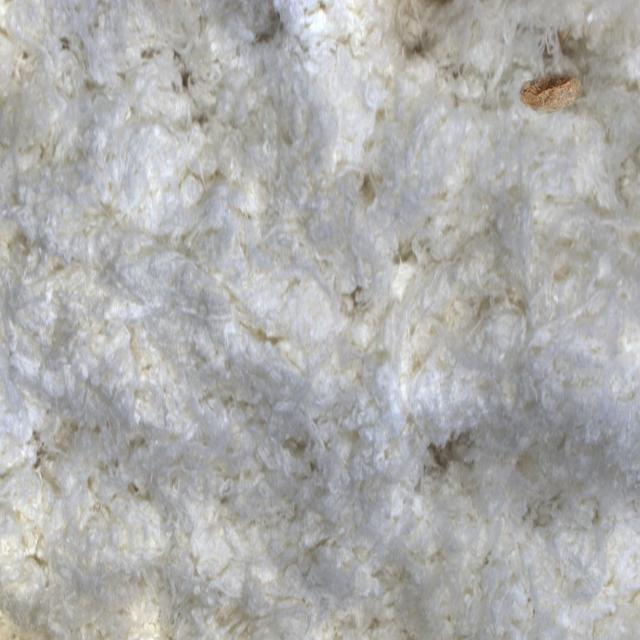dust: (493, 33, 598, 152)
